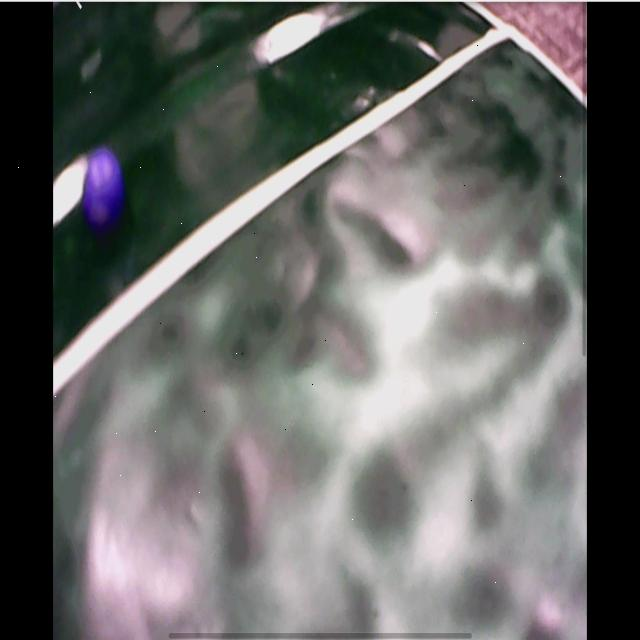ball: (81, 152, 121, 223)
